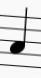note: (8, 4, 30, 72)
